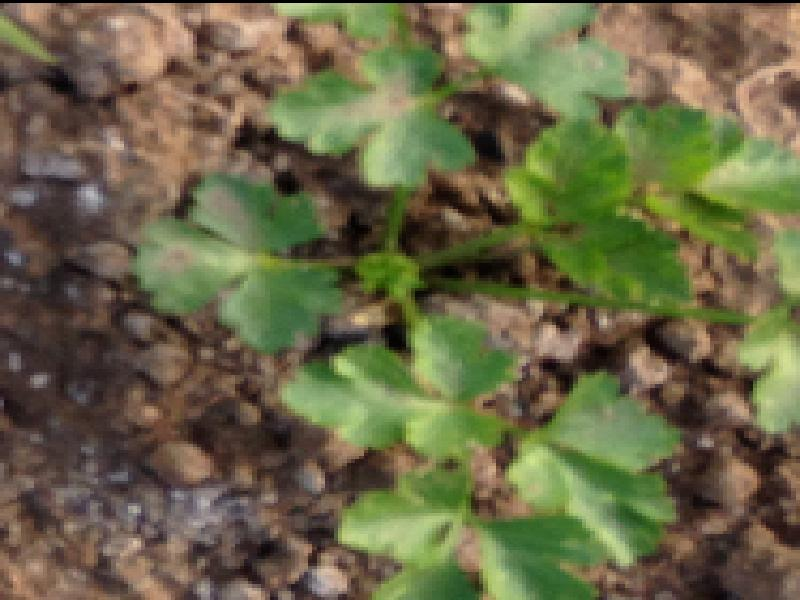radish: (0, 0, 800, 524)
